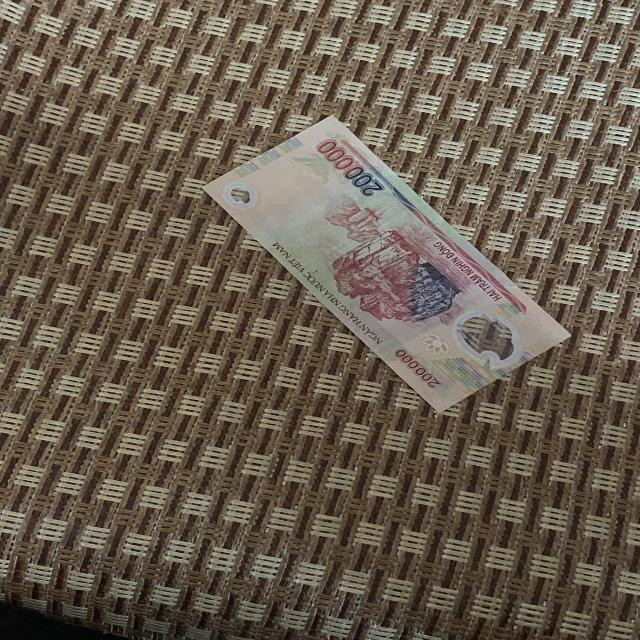200 000 VND: (200, 105, 574, 419)
